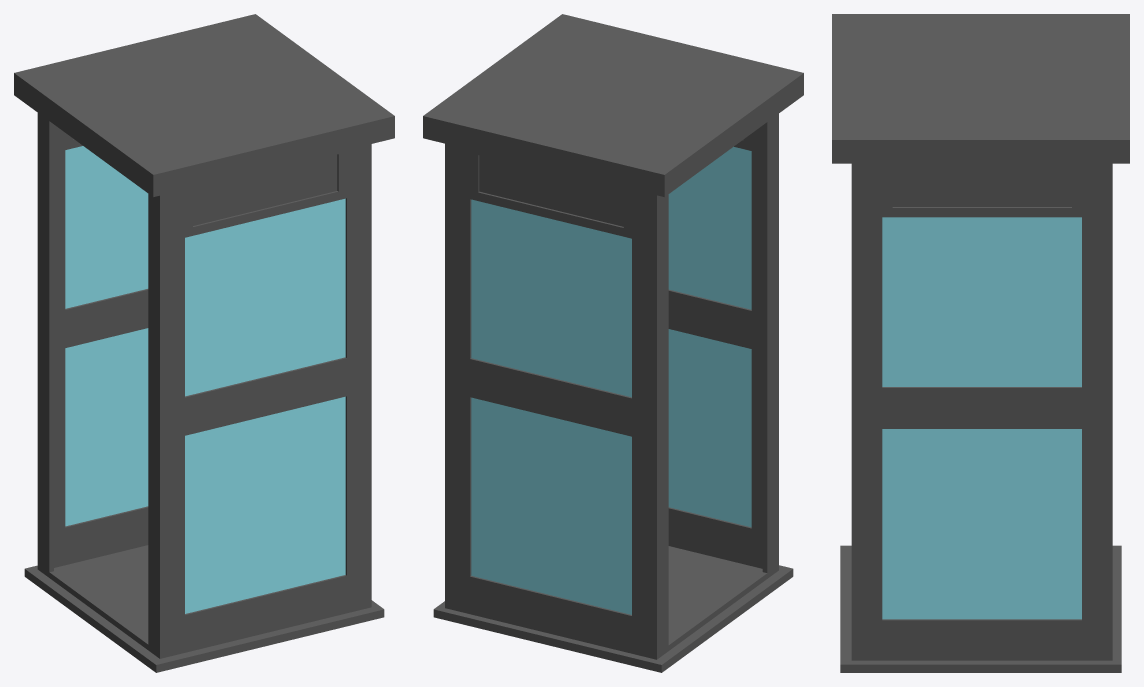
Rendered from SM_TelephoneCabin.FBX.
3 views of the same model, side by side, from view 1: azimuth 30°, elevation 25°; view 2: azimuth 150°, elevation 25°; view 3: azimuth 270°, elevation 25° (orthographic). The views are drawn at different scales.
Visible parts, largest first — view 1: SM_TelephoneBox; view 2: SM_TelephoneBox; view 3: SM_TelephoneBox.
Boxes of the visible parts, x1=… form: SM_TelephoneBox: x1=14, y1=14, x2=394, y2=672; SM_TelephoneBox: x1=423, y1=14, x2=803, y2=672; SM_TelephoneBox: x1=832, y1=14, x2=1129, y2=672.
Bounding box in the file's own units: 107 × 212 × 107.
